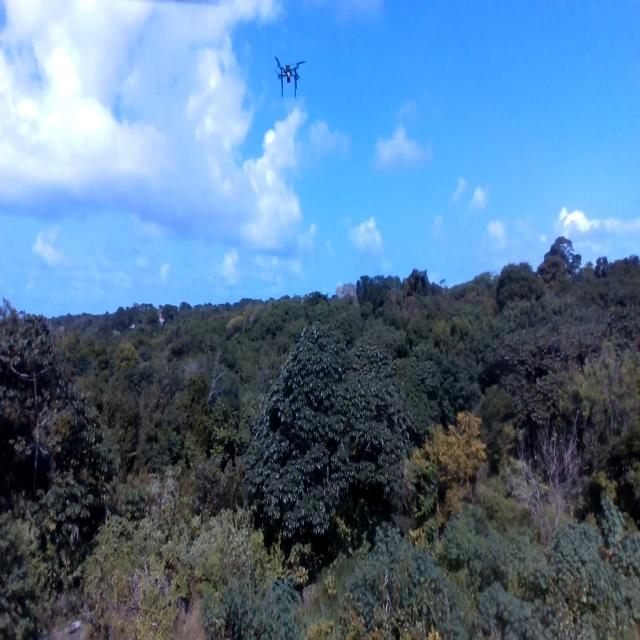-uav-: (271, 45, 310, 108)
